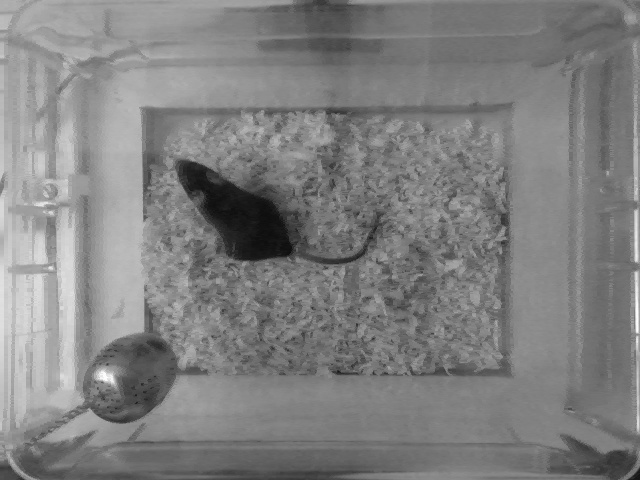mice: (174, 154, 394, 271)
